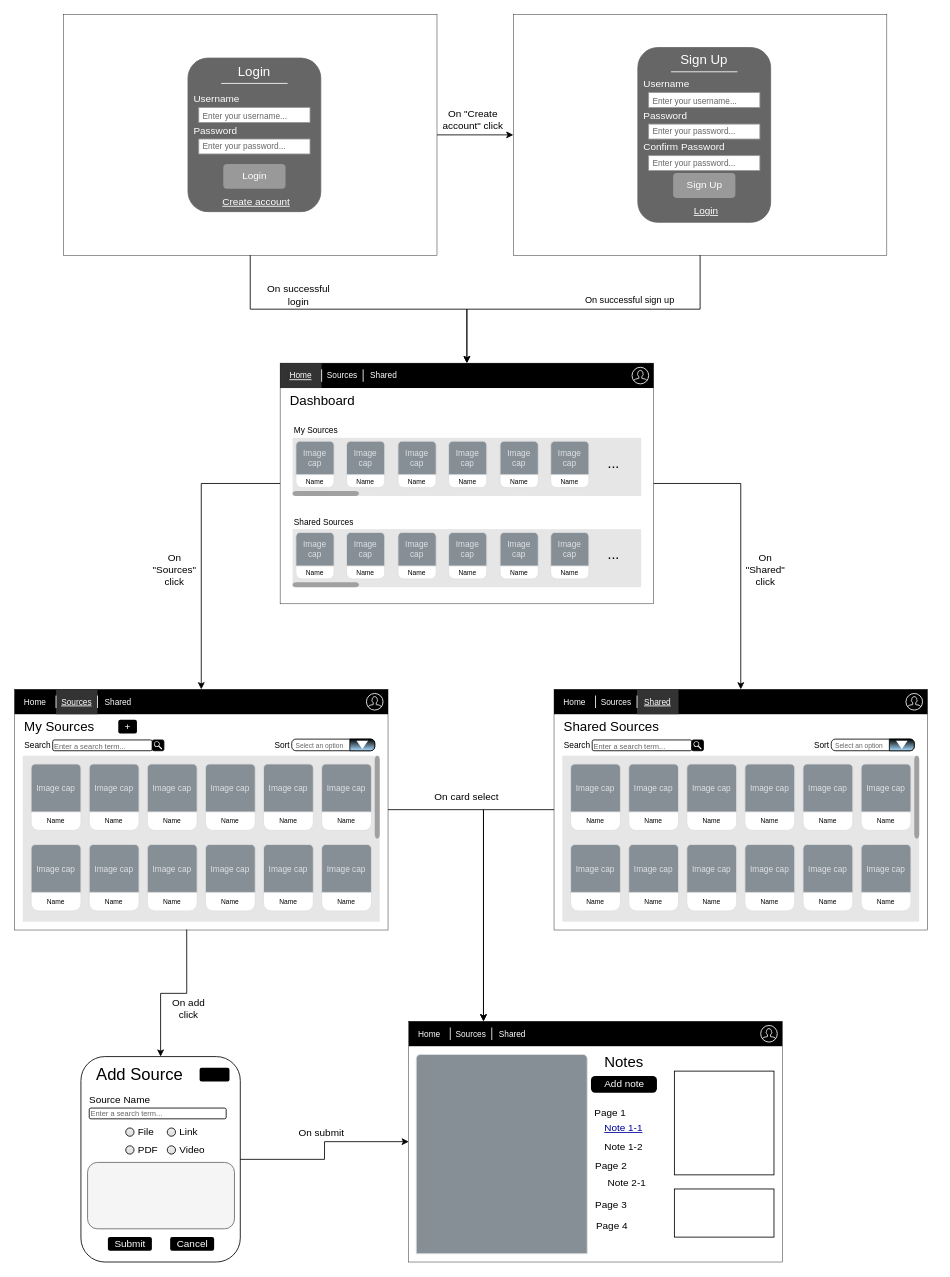
Some shapes in this 950 by 1277 pixel diagram are drawn without their labels. Each missing label, with the centre of its shape:
"Close" goes at (214,1074).
"Meta Data and citation information input" goes at (160,1195).
"Note 1-1 text" goes at (724,1122).
"Source" goes at (501,1154).
"Tags" goes at (724,1212).
